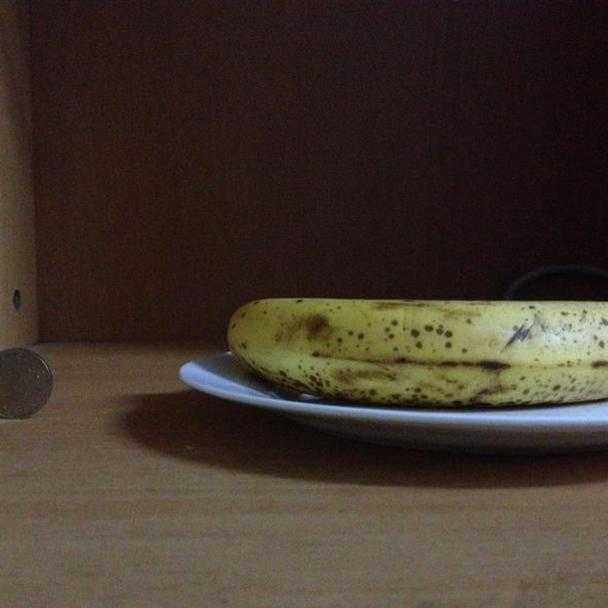banana: (224, 286, 607, 412)
